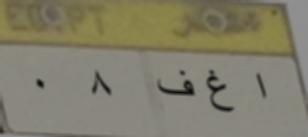0: (20, 66, 57, 95)
8: (87, 67, 114, 102)
alif: (250, 66, 280, 107)
faa: (155, 62, 195, 100)
ghayn: (204, 64, 237, 120)
